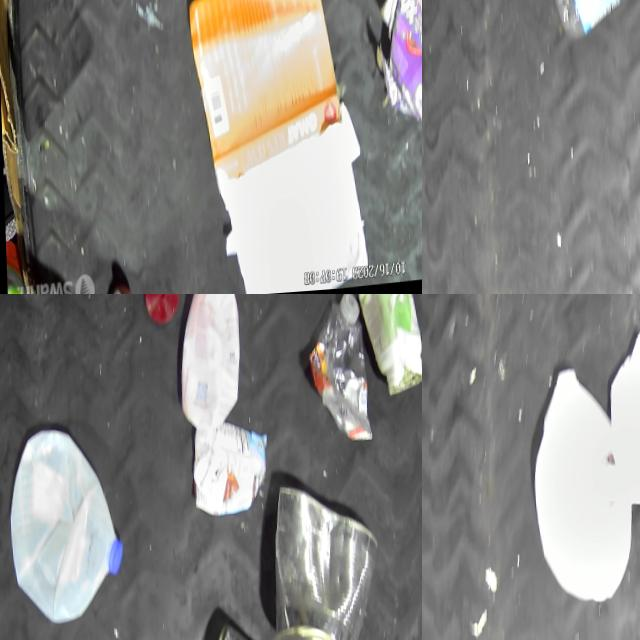can: (268, 479, 381, 640)
milk_jug: (528, 364, 633, 611), (5, 420, 124, 633), (173, 294, 243, 436), (189, 420, 267, 525), (606, 323, 640, 529)
plastic_bottle: (304, 295, 372, 454), (544, 0, 640, 47)
